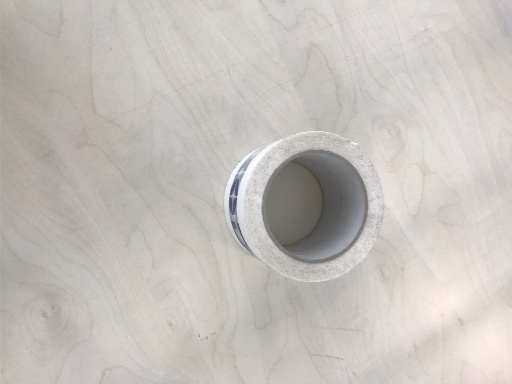Nastro: (218, 127, 392, 291)
